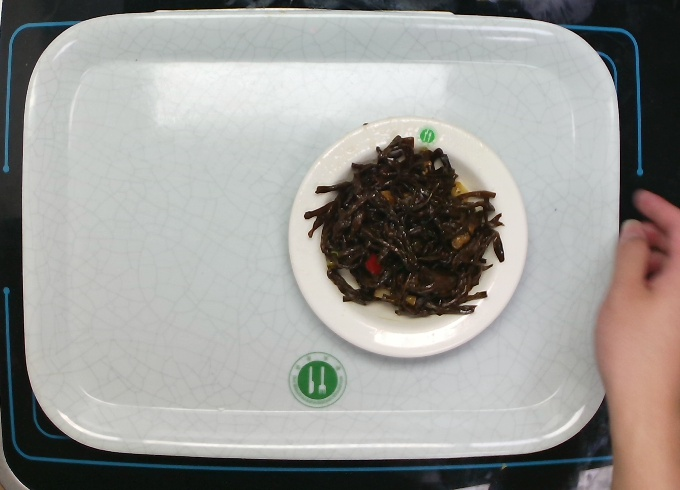WCQzf-Kuan_Bian_Yuan_Die: (283, 113, 528, 362)
